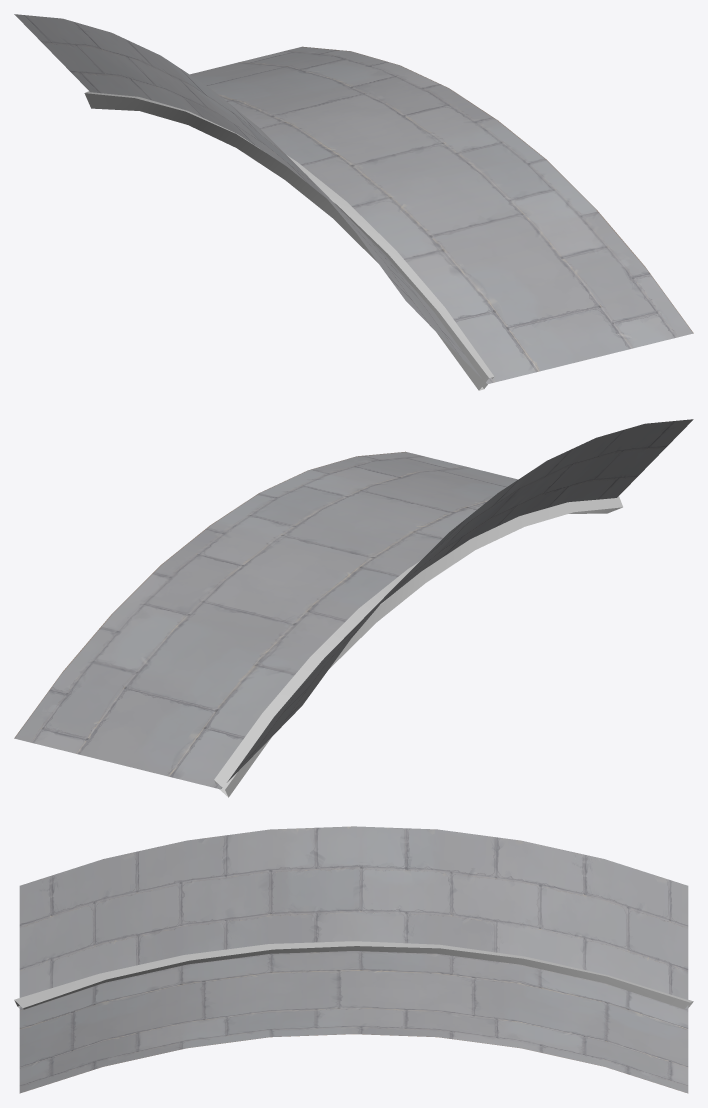
Rendered from SM_CeilingArchBorderInside_Round.fbx.
The picture shows the model from 3 angles, top to bottom: view 1: azimuth 30°, elevation 25°; view 2: azimuth 150°, elevation 25°; view 3: azimuth 270°, elevation 25°; orthographic projection. The views are drawn at different scales.
Visible parts, largest first — view 1: SM_CeilingArchBorderInside_Round; view 2: SM_CeilingArchBorderInside_Round; view 3: SM_CeilingArchBorderInside_Round.
Boxes of the visible parts, x1,y1,x2,y2 form: SM_CeilingArchBorderInside_Round: [14, 14, 693, 390]; SM_CeilingArchBorderInside_Round: [14, 419, 693, 797]; SM_CeilingArchBorderInside_Round: [14, 826, 693, 1093].
Bounding box in the file's own units: 1.7 × 1.02 × 4.07.
